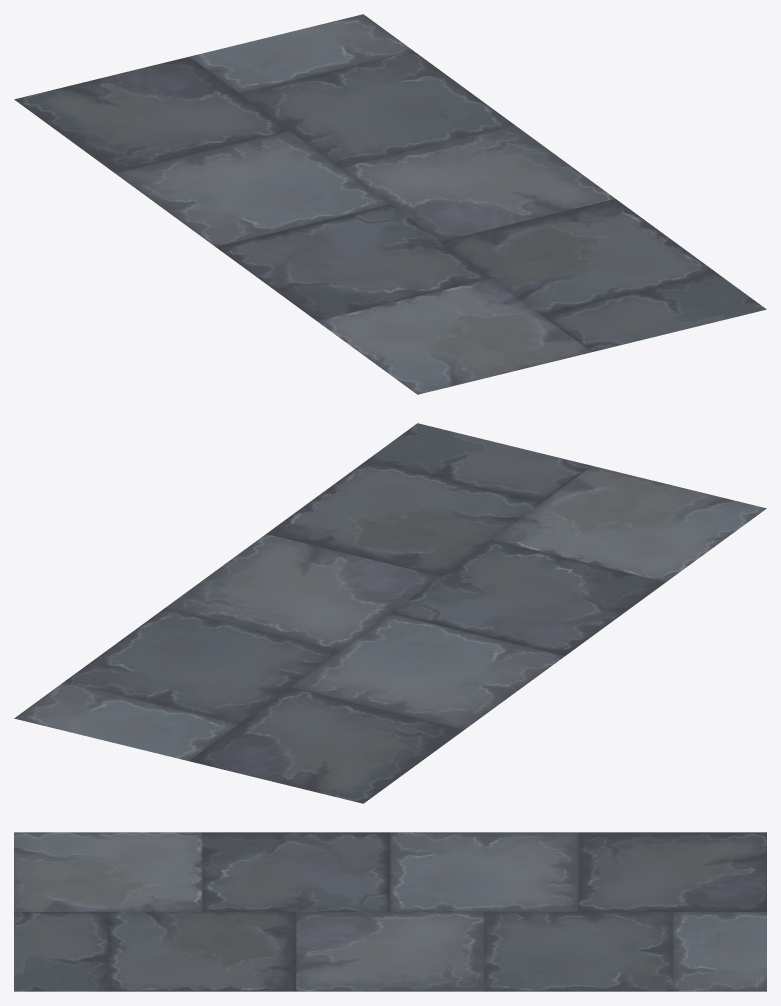
Rendered from Castle Ground X Mix 2x4.fbx.
3 renders of one model, top to bottom at view 1: azimuth 30°, elevation 25°; view 2: azimuth 150°, elevation 25°; view 3: azimuth 270°, elevation 25°, orthographic. The views are drawn at different scales.
Visible parts, largest first — view 1: Castle Ground X Mix 2x4; view 2: Castle Ground X Mix 2x4; view 3: Castle Ground X Mix 2x4.
Boxes of the visible parts, x1,y1,x2,y2 form: Castle Ground X Mix 2x4: [14, 14, 766, 394]; Castle Ground X Mix 2x4: [14, 423, 766, 803]; Castle Ground X Mix 2x4: [14, 832, 766, 991].
Bounding box in the file's own units: 1.5 × 9.23e-07 × 3.
